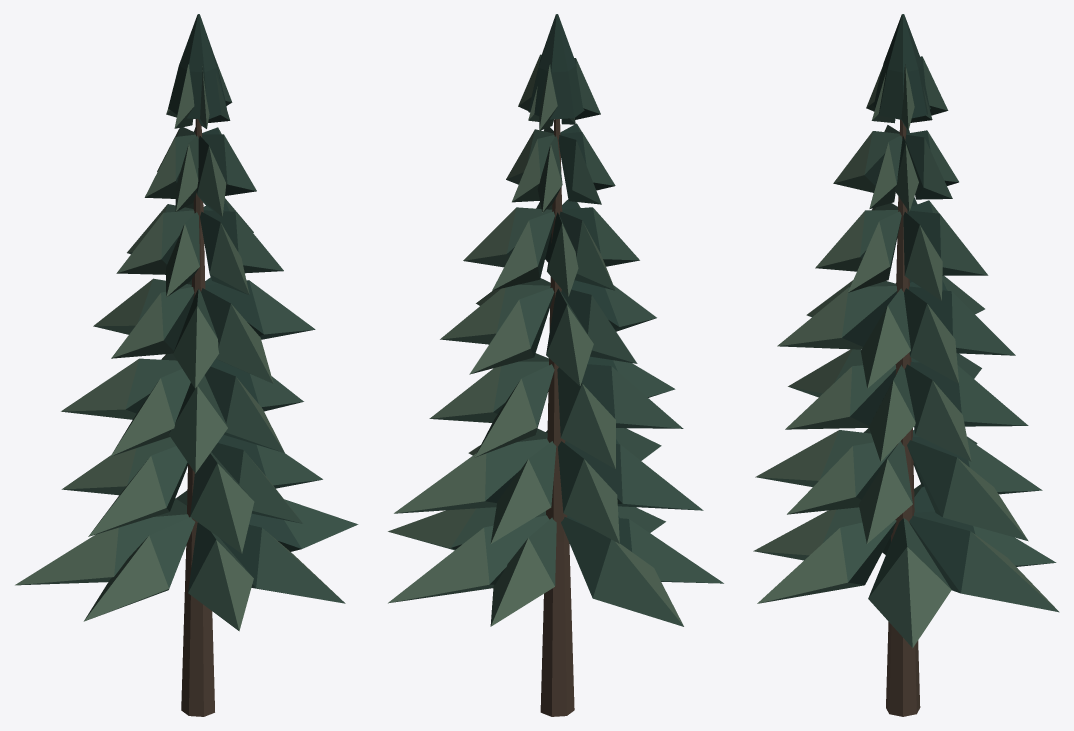
The model's file is black_creek_spruce.glb.
3 views of the same model, side by side, from view 1: azimuth 30°, elevation 25°; view 2: azimuth 150°, elevation 25°; view 3: azimuth 270°, elevation 25° (orthographic).
Parts seen in each view (by area): view 1: black_creek_spruce; view 2: black_creek_spruce; view 3: black_creek_spruce.
Part boxes in pixels (left/top/right/bottom): black_creek_spruce: left=15, top=14, right=358, bottom=716; black_creek_spruce: left=388, top=14, right=723, bottom=716; black_creek_spruce: left=753, top=14, right=1059, bottom=716.
Size of the model in its own units: 3.36 by 6.97 by 2.79.
